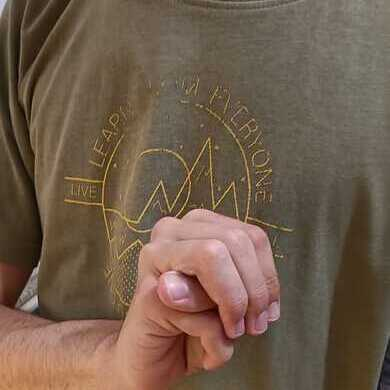M: (118, 205, 282, 390)
